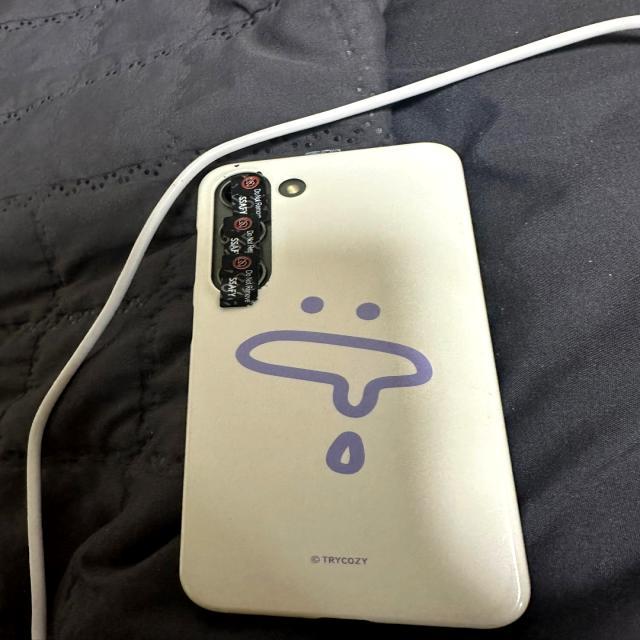phone: (177, 139, 534, 630)
removed_sticker: (221, 255, 257, 307), (232, 172, 268, 218), (223, 218, 261, 257)
